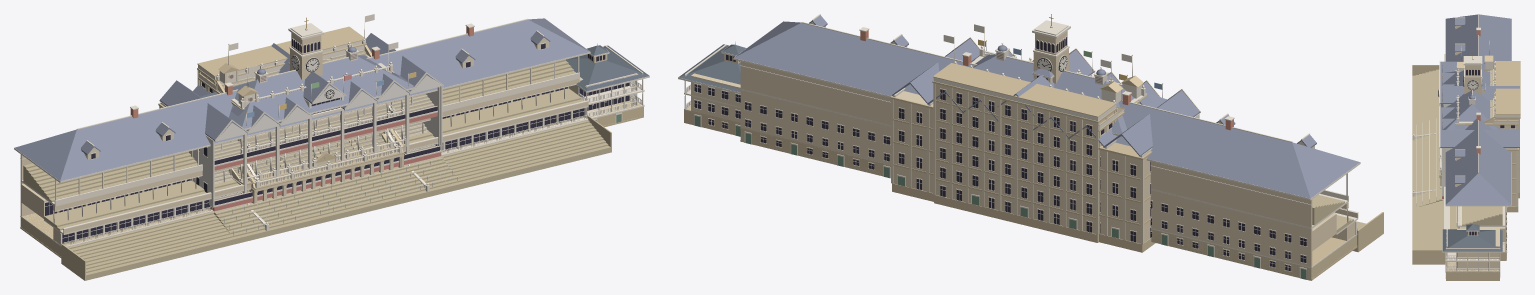
The model's file is doncaster_stands.glb.
3 renders of one model, left to right at view 1: azimuth 30°, elevation 25°; view 2: azimuth 150°, elevation 25°; view 3: azimuth 270°, elevation 25°, orthographic. The views are drawn at different scales.
Parts seen in each view (by area): view 1: victorian_stand, park_gable_stand, park_roof_terrace_stand, park_tiered_stand, park_balcony_stand_clock; view 2: victorian_stand, park_roof_terrace_stand, park_gable_stand, park_balcony_stand_clock, park_tiered_stand; view 3: victorian_stand, park_gable_stand, park_roof_terrace_stand, park_tiered_stand, park_balcony_stand_clock.
Part boxes in pixels (<box>): victorian_stand: <box>14,18,649,280</box>; park_gable_stand: <box>158,33,461,244</box>; park_roof_terrace_stand: <box>197,14,429,235</box>; park_tiered_stand: <box>200,44,413,236</box>; park_balcony_stand_clock: <box>198,17,401,163</box>; victorian_stand: <box>678,14,1383,280</box>; park_roof_terrace_stand: <box>932,35,1124,242</box>; park_gable_stand: <box>890,37,1200,252</box>; park_balcony_stand_clock: <box>971,14,1146,233</box>; park_tiered_stand: <box>971,43,1167,136</box>; victorian_stand: <box>1412,14,1511,280</box>; park_gable_stand: <box>1415,60,1519,212</box>; park_roof_terrace_stand: <box>1412,40,1520,198</box>; park_tiered_stand: <box>1440,70,1501,129</box>; park_balcony_stand_clock: <box>1456,46,1518,129</box>.
Bounding box in the file's own units: 145 × 39.72 × 32.15.
